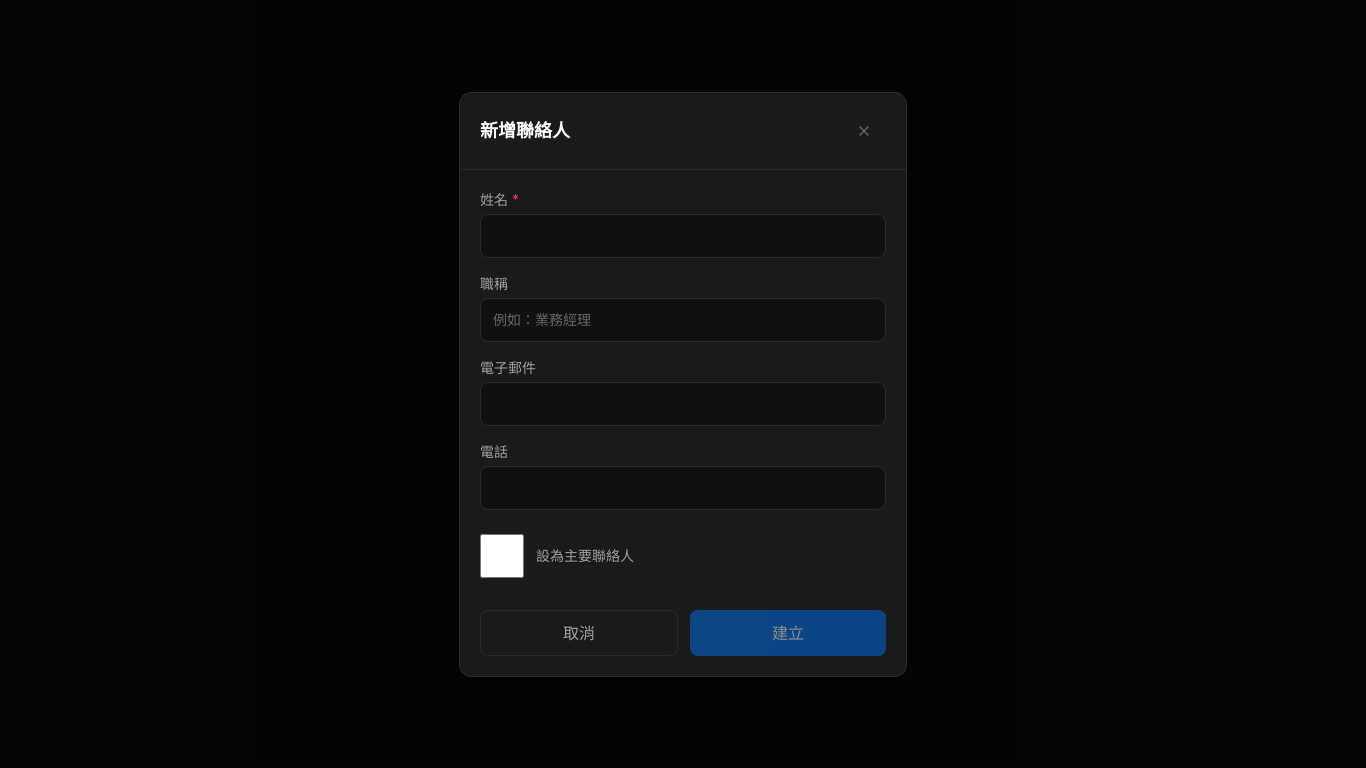
ContactForm › Form Submission › enables submission when name has value
Type "Test" into the field labelled "姓名*".
click(683, 236); type("Test")  # box [480,214,886,258]
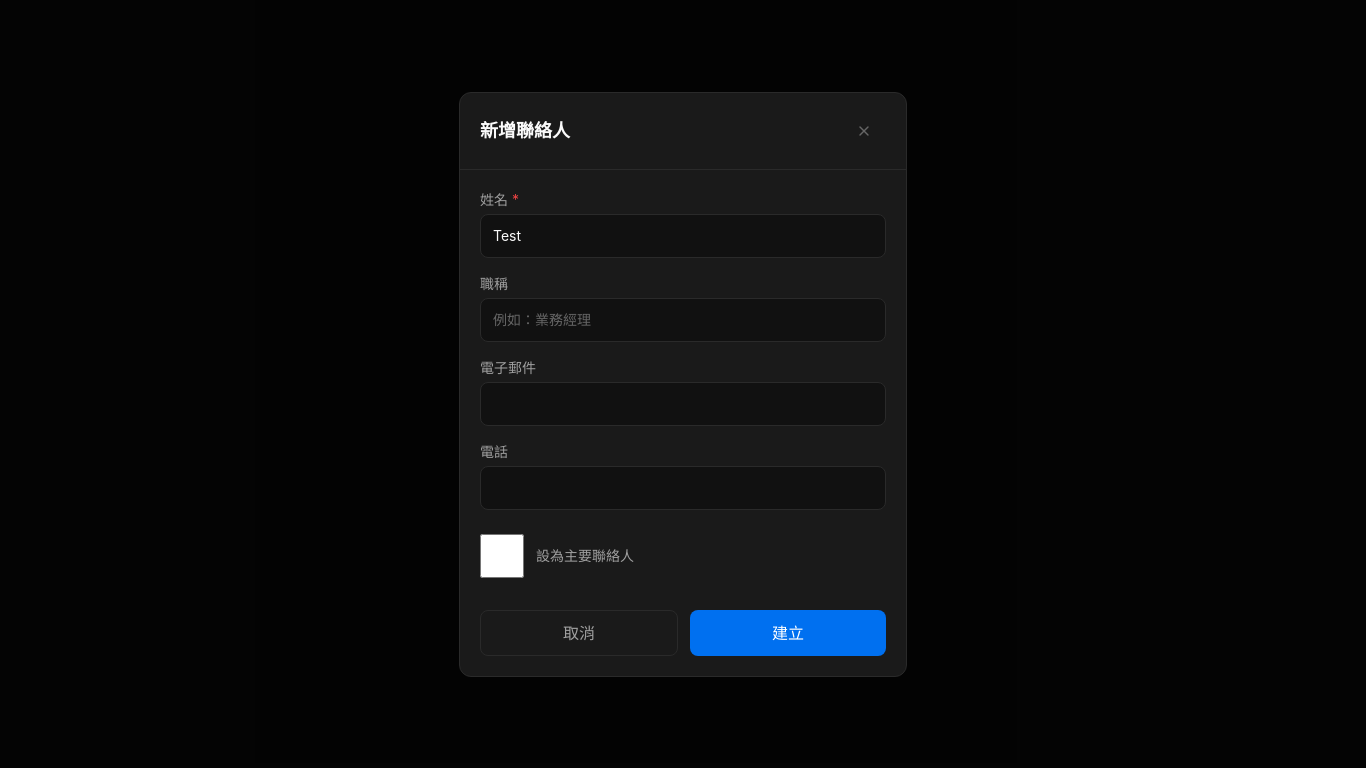
Expected: the button "建立" is enabled, [690,610,886,656]
